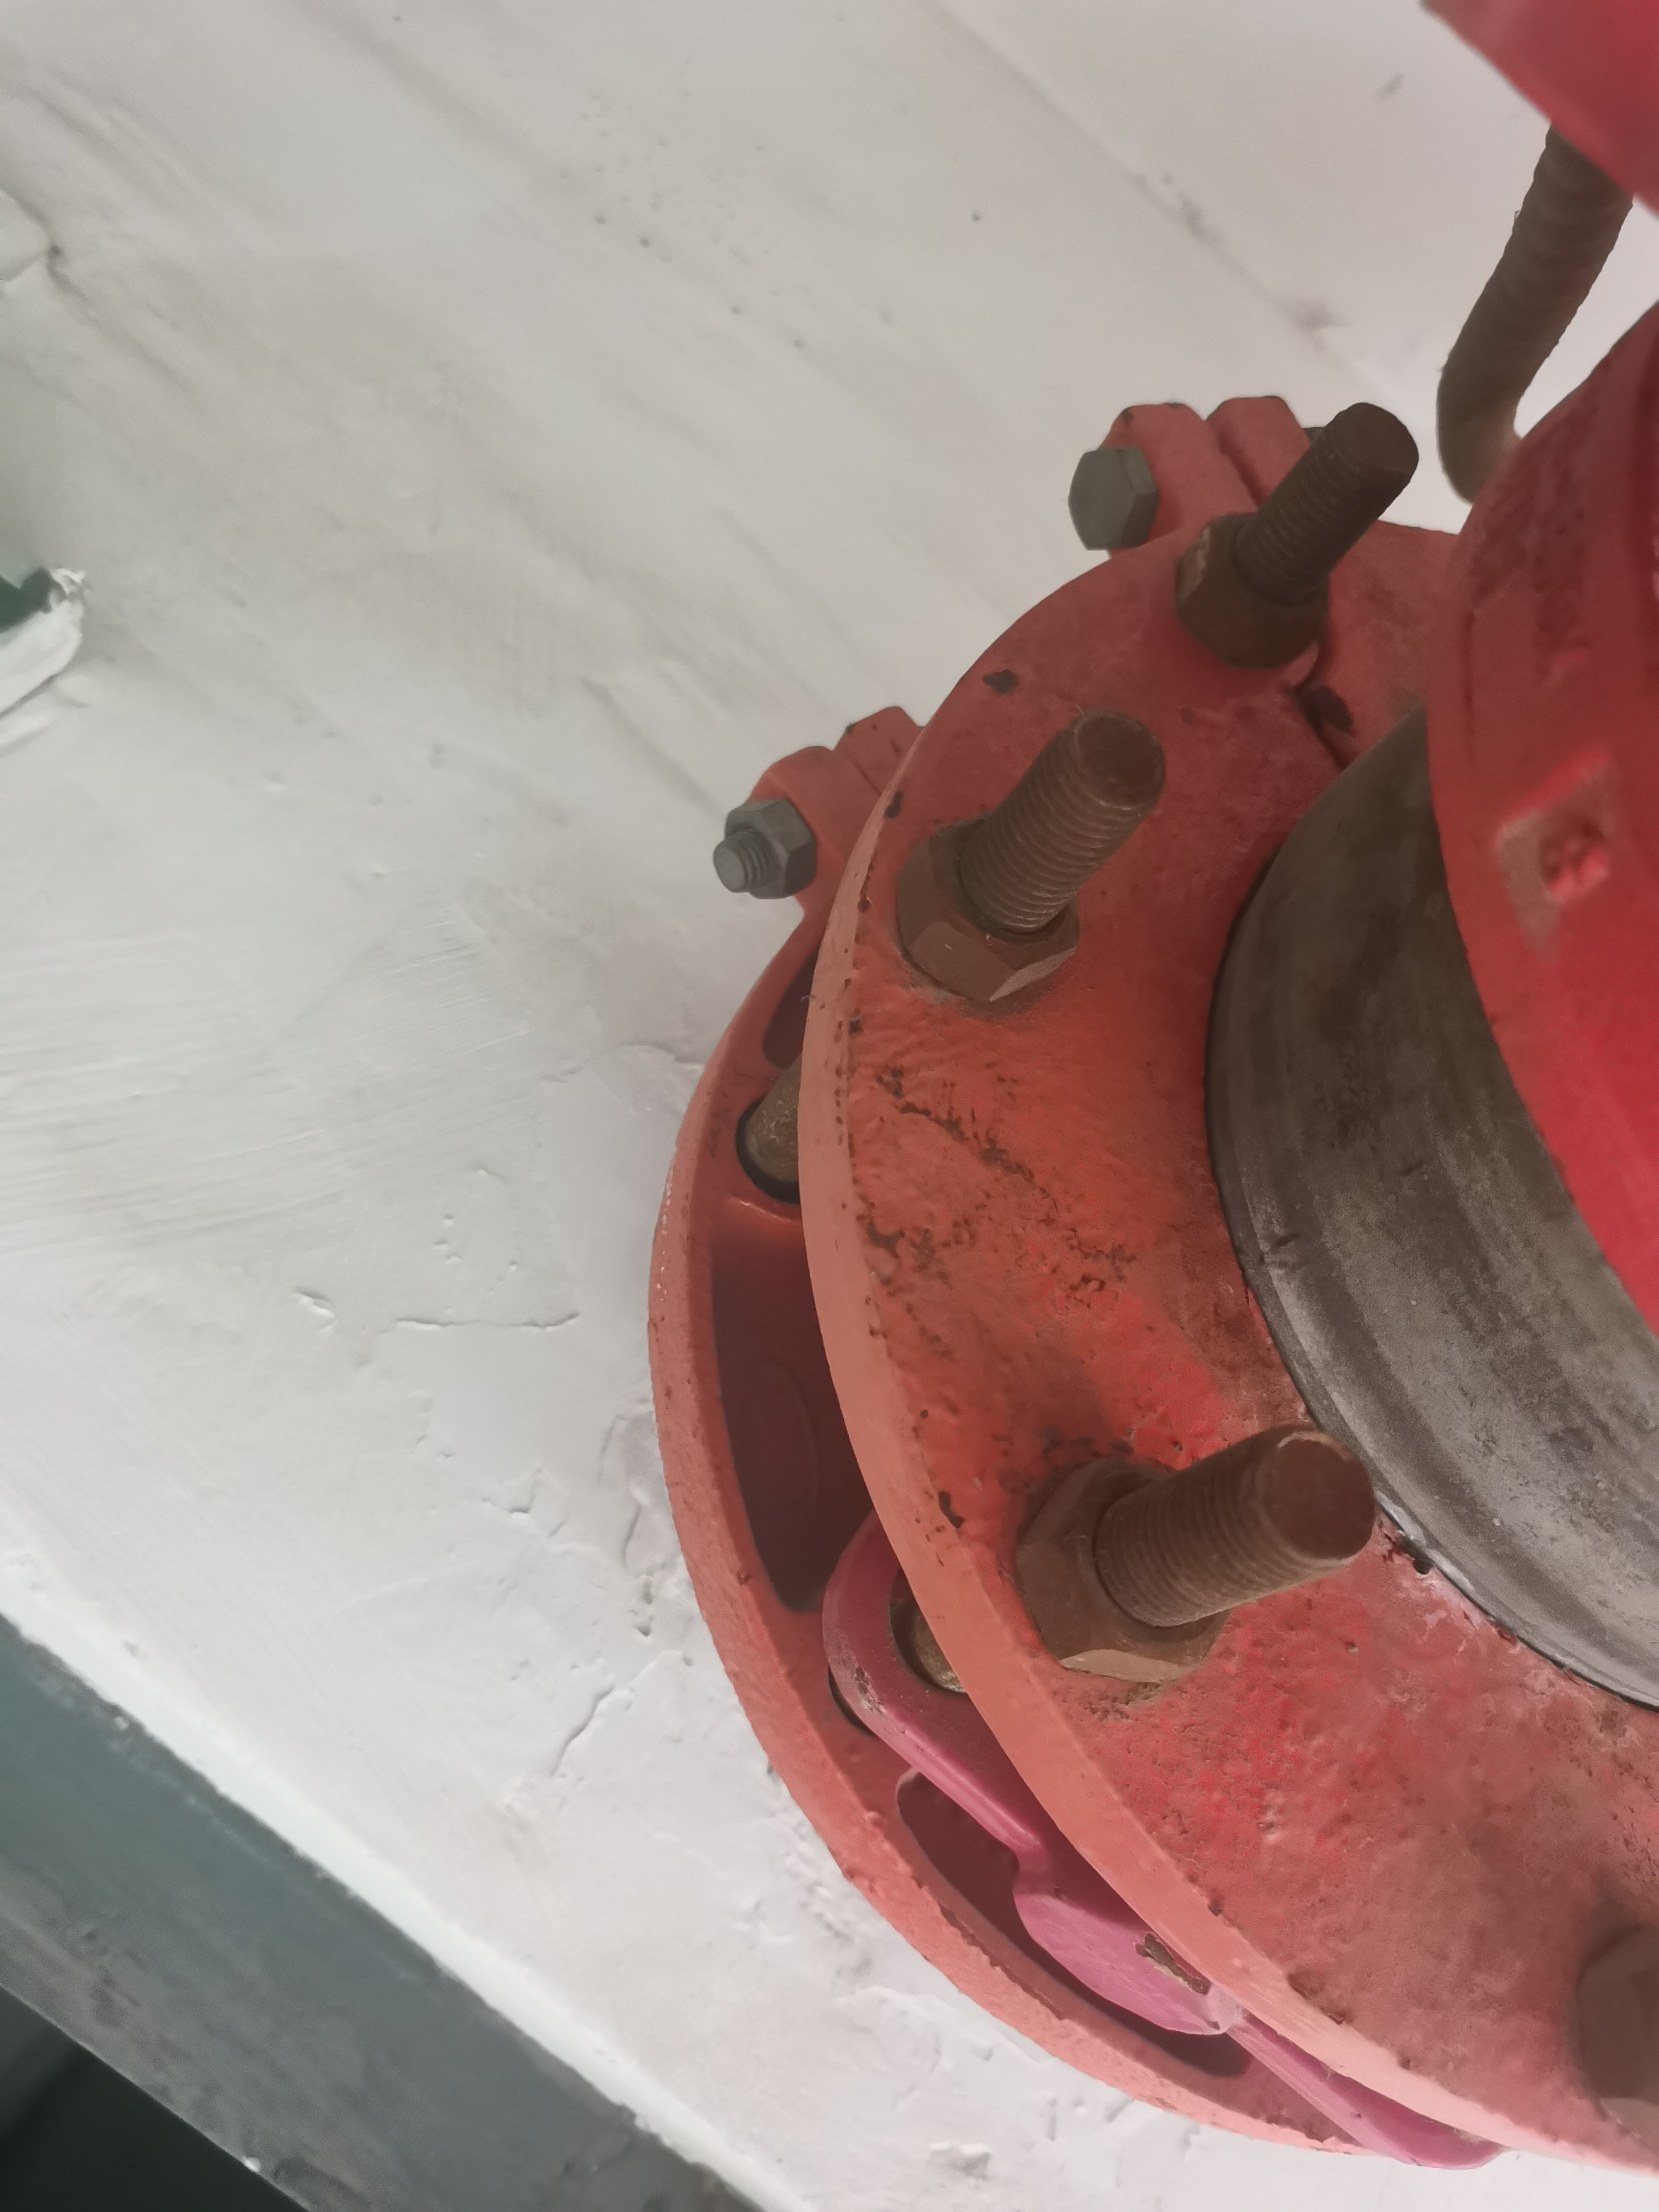bolt_a: (1060, 439, 1164, 561)
bolt_b: (1002, 1439, 1255, 1695), (887, 801, 1093, 1008), (1171, 500, 1338, 678), (713, 789, 823, 909)
